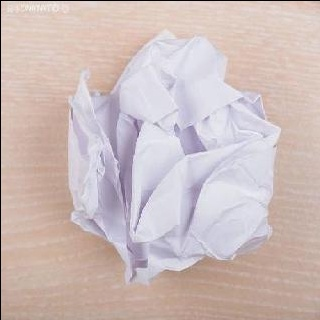8/可回收垃圾/纸: (67, 30, 282, 286)
